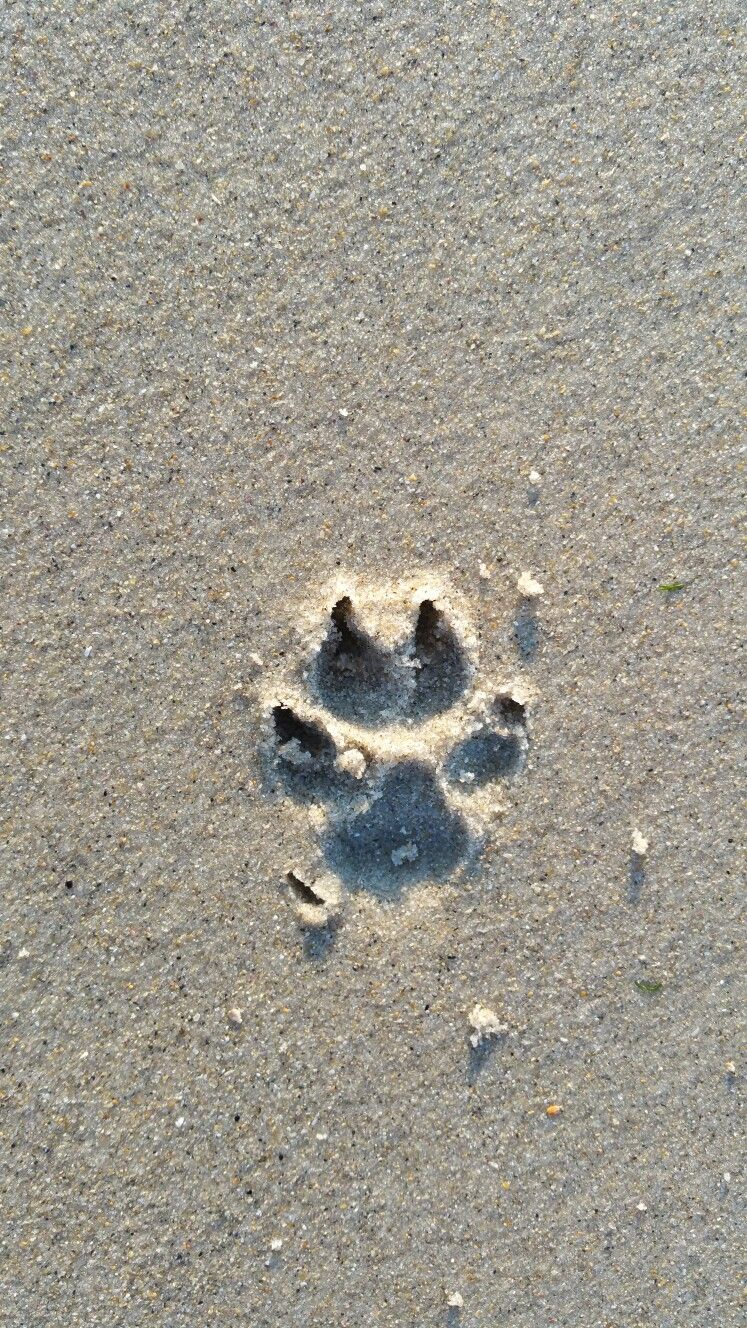chien: (260, 595, 540, 900)
